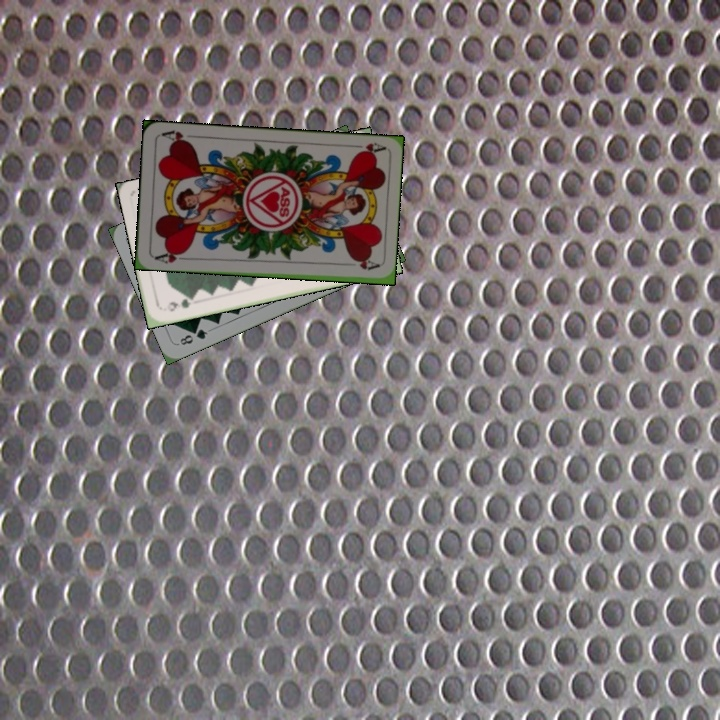G8: (176, 325, 210, 348)
G9: (163, 295, 193, 314)
HA: (151, 246, 191, 266), (346, 139, 386, 158)
